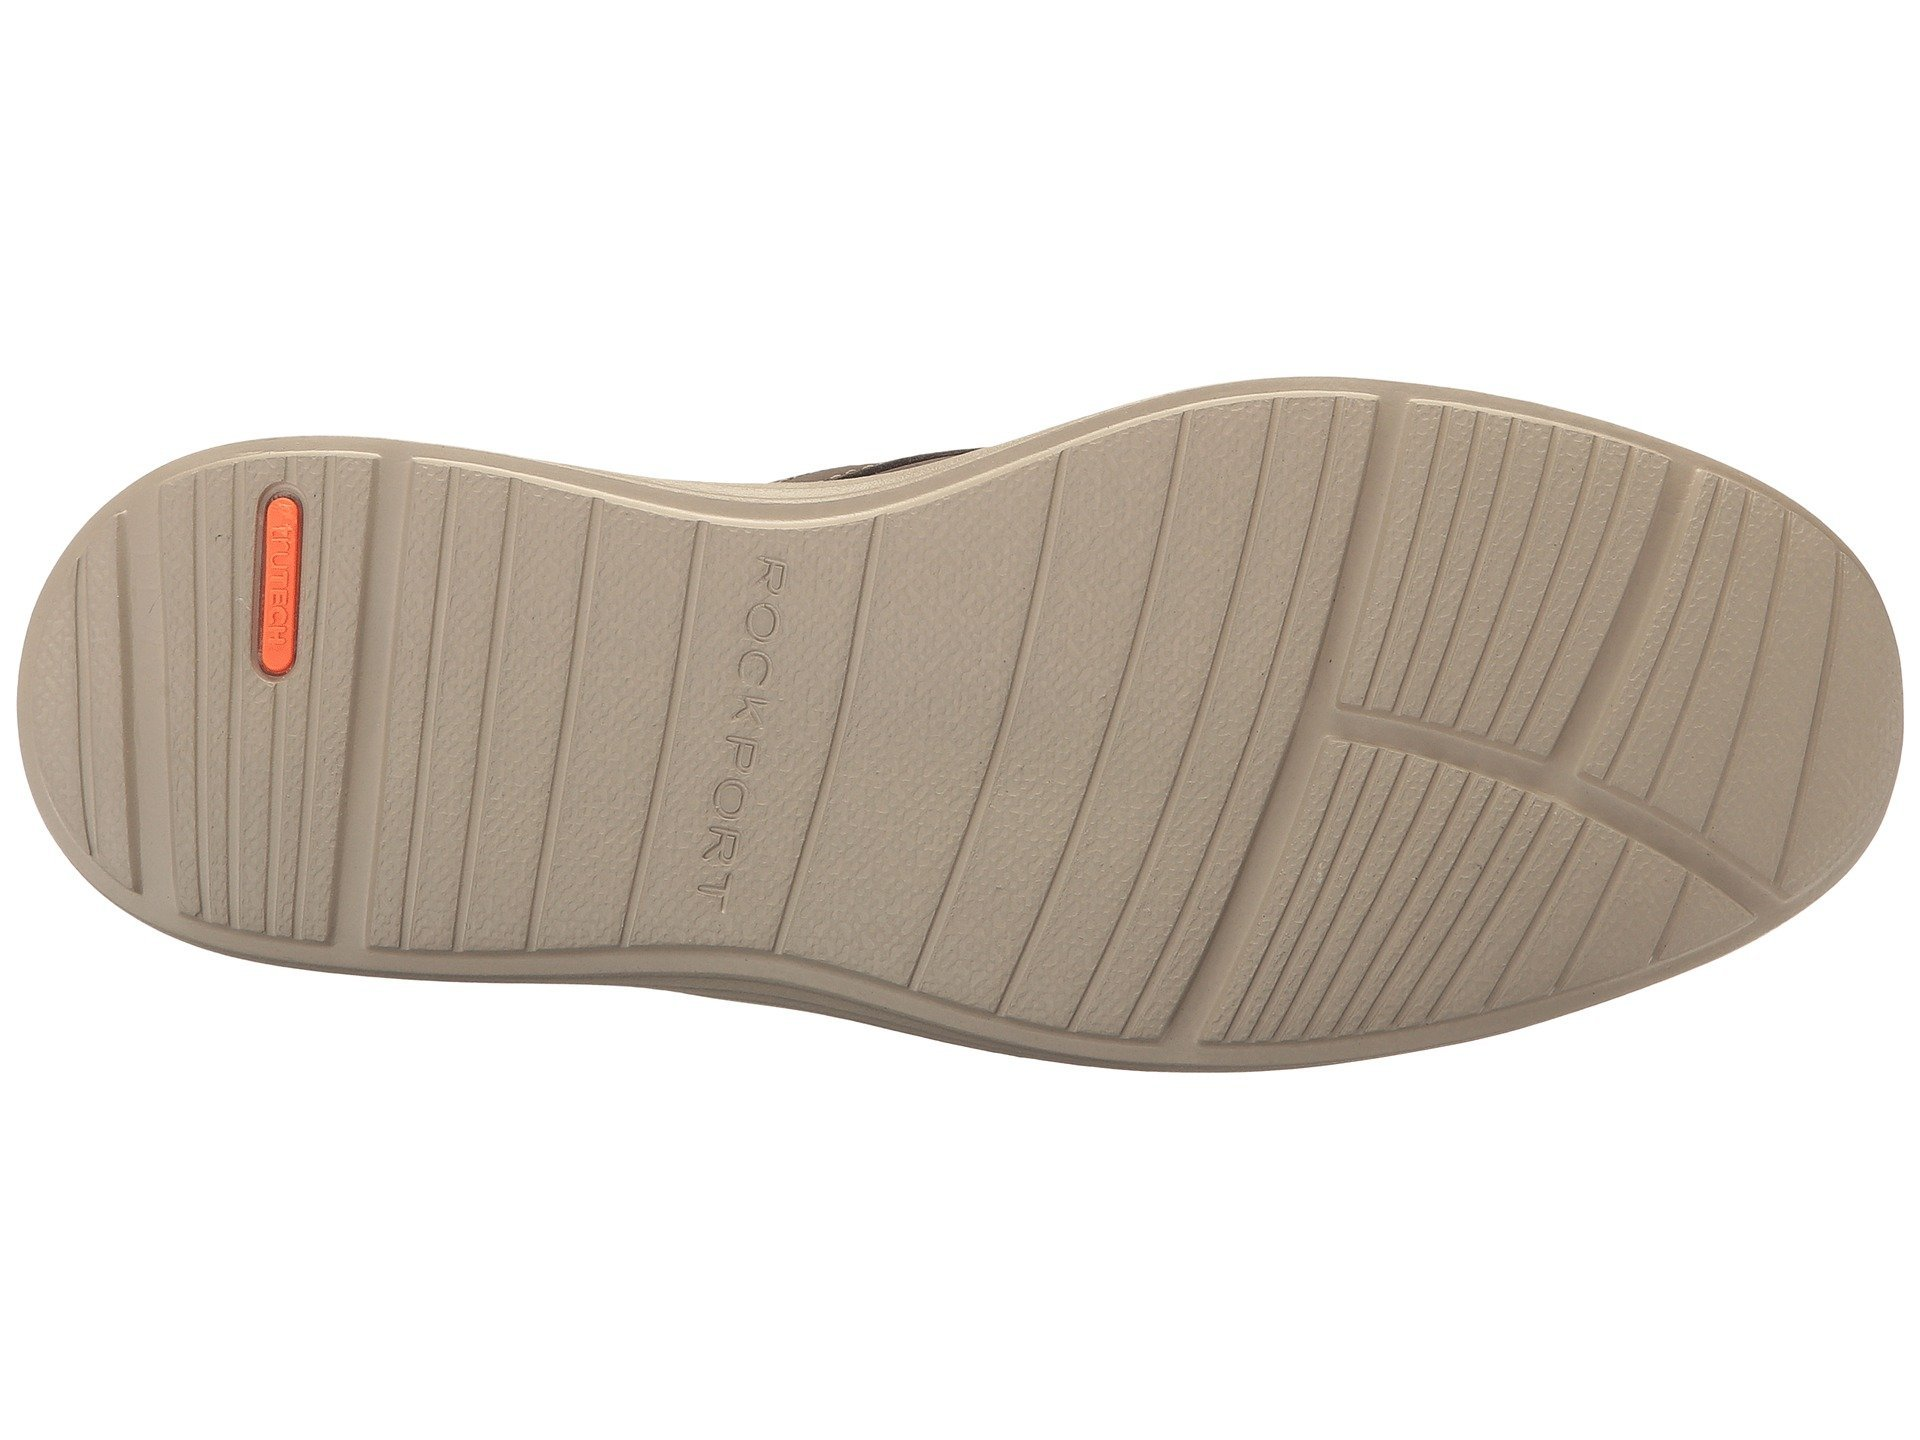circle: (435, 492, 1117, 964)
line: (435, 492, 1117, 964), (1262, 784, 1717, 1013), (1376, 389, 1592, 761)
quad: (154, 457, 367, 948), (1262, 784, 1717, 1013), (1376, 389, 1592, 761)
text: (435, 492, 1117, 964), (154, 457, 367, 948)
